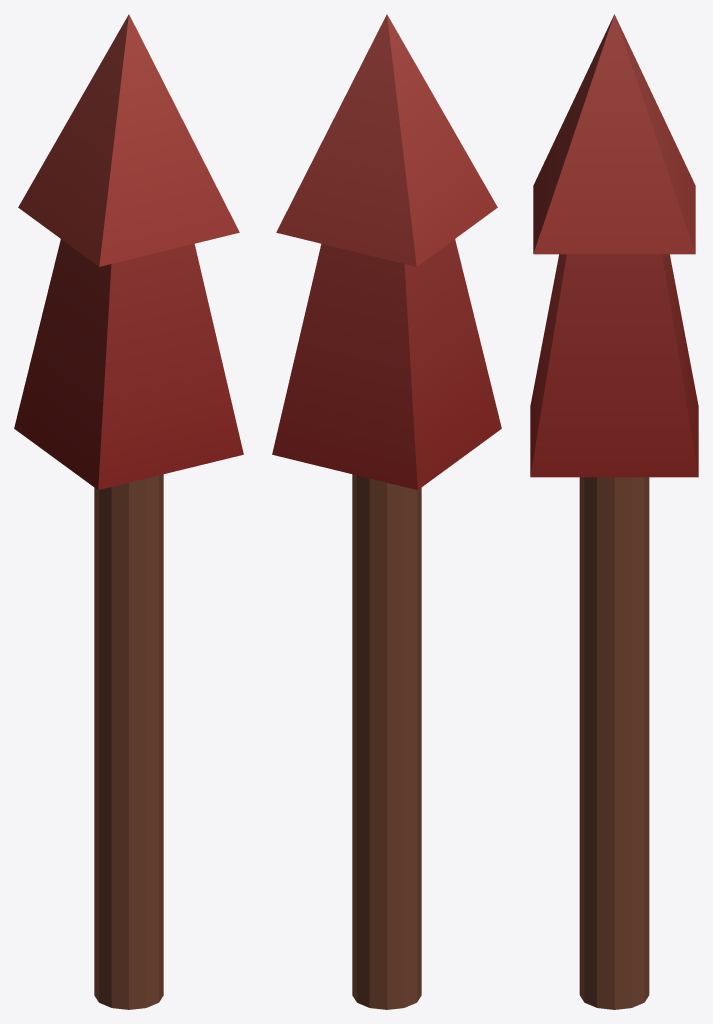
File: Tree_16_gradient_red_vc.fbx
The picture shows the model from 3 angles, left to right: view 1: azimuth 30°, elevation 25°; view 2: azimuth 150°, elevation 25°; view 3: azimuth 270°, elevation 25°; orthographic projection.
Visible parts, largest first — view 1: Tree_16_gradient_red_vc; view 2: Tree_16_gradient_red_vc; view 3: Tree_16_gradient_red_vc.
Boxes of the visible parts, x1,y1,x2,y2 form: Tree_16_gradient_red_vc: (14,14,243,1009); Tree_16_gradient_red_vc: (272,14,501,1009); Tree_16_gradient_red_vc: (530,14,698,1009).
Bounding box in the file's own units: 53.67 × 345 × 53.67.
